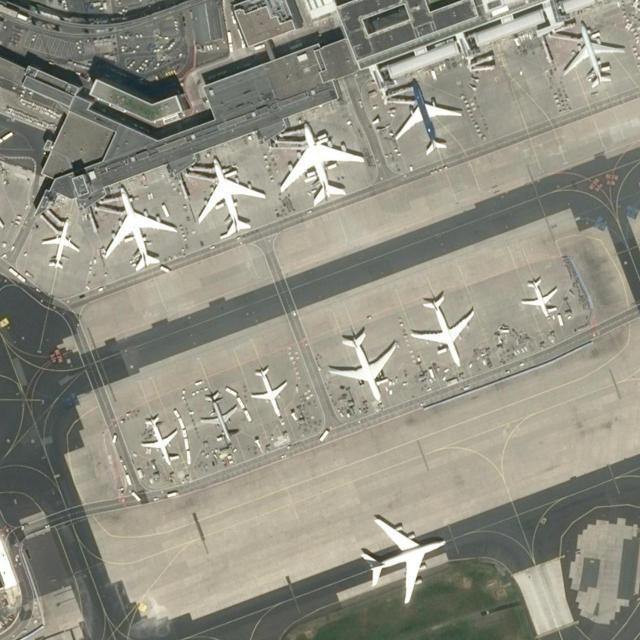Aircraft: (357, 515, 445, 603), (277, 124, 363, 206), (100, 187, 178, 273), (196, 159, 264, 239), (391, 83, 462, 155), (327, 330, 395, 404), (406, 295, 474, 366), (562, 22, 622, 87), (197, 391, 238, 441), (41, 220, 81, 269), (139, 416, 177, 467), (250, 367, 288, 417), (519, 276, 557, 318)
